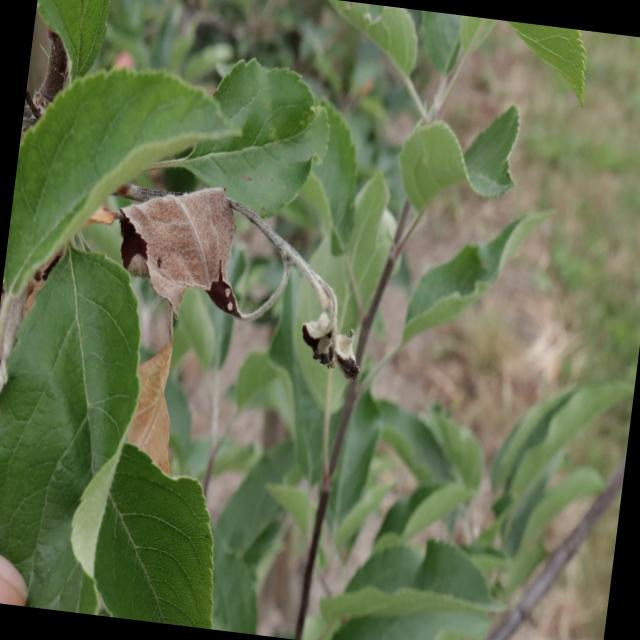-FireBlight-: (100, 194, 276, 332)
